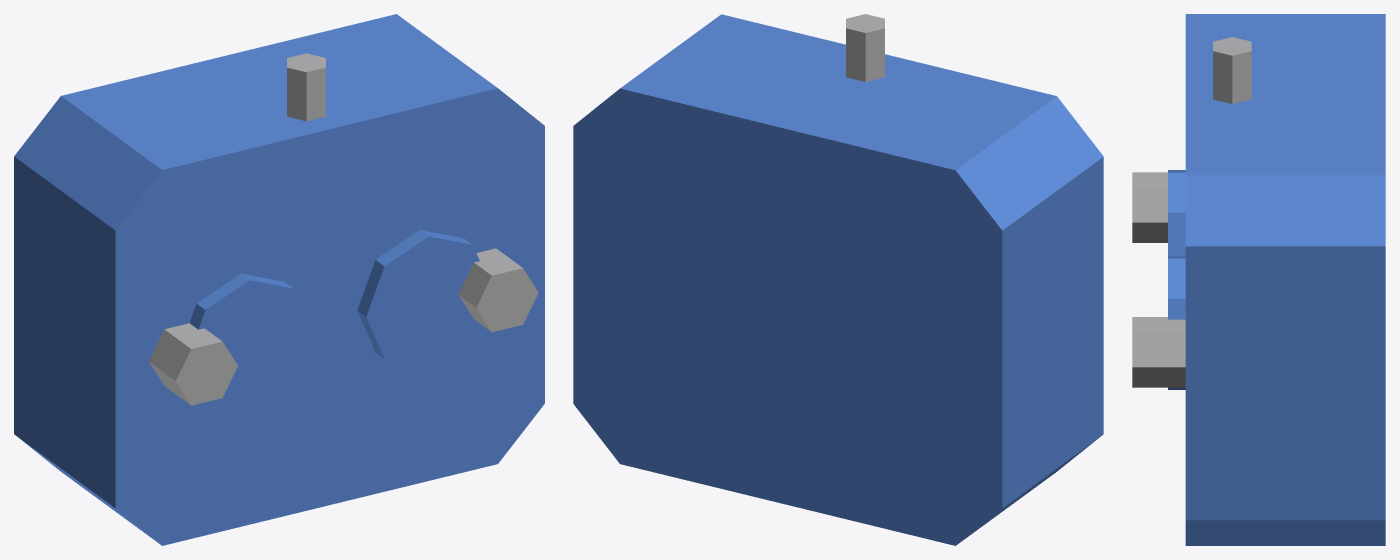
The model's file is four_piston_radial_lod1.glb.
3 renders of one model, left to right at view 1: azimuth 30°, elevation 25°; view 2: azimuth 150°, elevation 25°; view 3: azimuth 270°, elevation 25°, orthographic.
Parts seen in each view (by area): view 1: four_piston_radial_lod1; view 2: four_piston_radial_lod1; view 3: four_piston_radial_lod1.
Boxes of the visible parts, x1,y1,x2,y2 form: four_piston_radial_lod1: [14, 14, 544, 545]; four_piston_radial_lod1: [573, 14, 1103, 545]; four_piston_radial_lod1: [1132, 14, 1385, 545].
Bounding box in the file's own units: 0.11 × 0.104 × 0.057.
